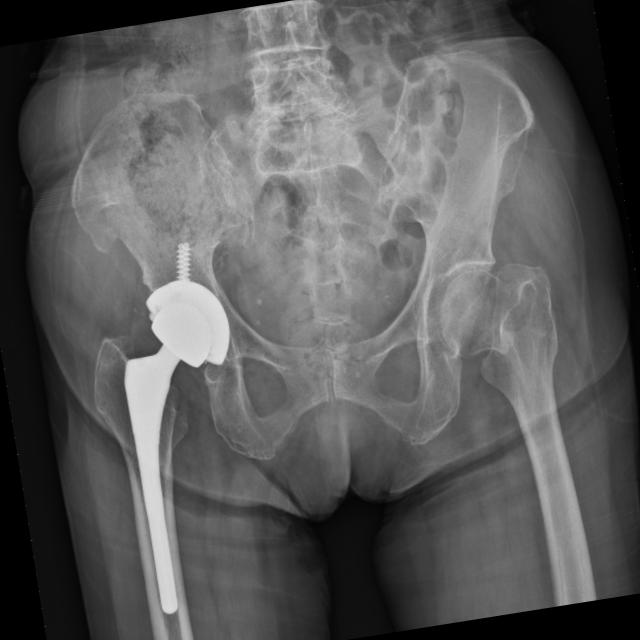left-neck: (481, 264, 564, 450), (440, 269, 504, 360)
